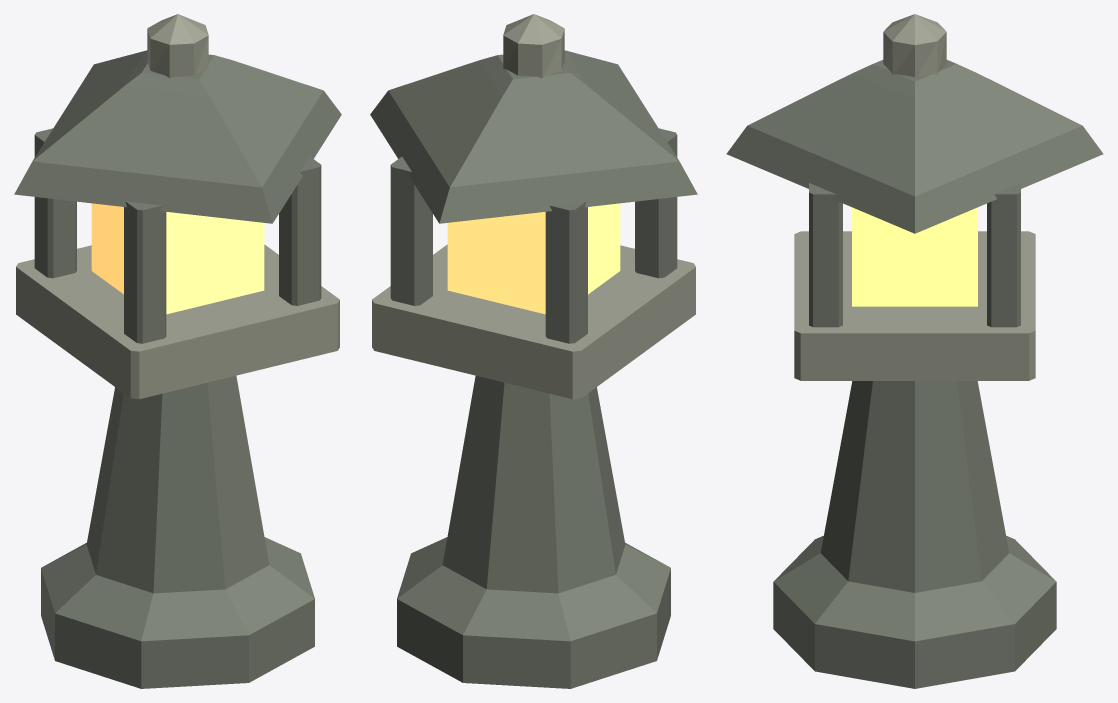
The model's file is decor_stone_lantern.glb.
3 views of the same model, side by side, from view 1: azimuth 30°, elevation 25°; view 2: azimuth 150°, elevation 25°; view 3: azimuth 270°, elevation 25° (orthographic).
Parts seen in each view (by area): view 1: geometry, light; view 2: geometry, light; view 3: geometry, light.
Part boxes in pixels (x1=…): geometry: x1=14, y1=14, x2=341, y2=688; light: x1=91, y1=203, x2=264, y2=314; geometry: x1=370, y1=14, x2=697, y2=688; light: x1=447, y1=203, x2=620, y2=314; geometry: x1=726, y1=14, x2=1103, y2=688; light: x1=852, y1=207, x2=977, y2=306.
Bounding box in the file's own units: 0.72 × 1.3 × 0.72.
